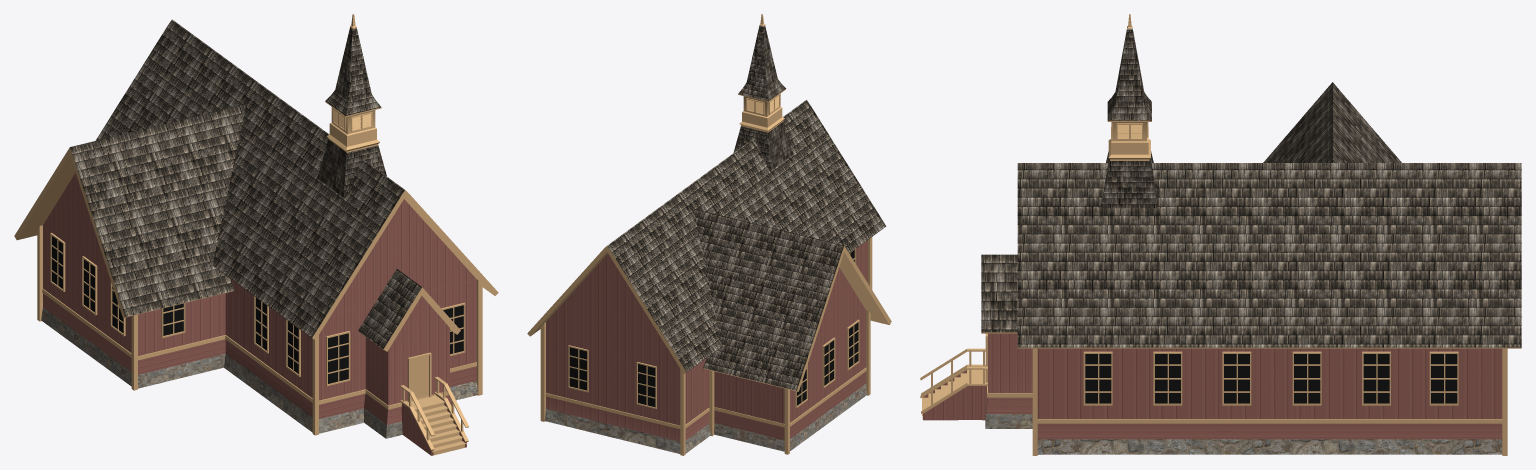
The model's file is ChapelFinal.fbx.
3 views of the same model, side by side, from view 1: azimuth 30°, elevation 25°; view 2: azimuth 150°, elevation 25°; view 3: azimuth 270°, elevation 25° (orthographic). The views are drawn at different scales.
Visible parts, largest first — view 1: TopRoof, SideHouse, Bottom, BottomSide, Windows, FrontDoorHousing, TopTower, SideBeams, FrontDoorTop, Stairs, SideStairs, Door (+1 smaller); view 2: TopRoof, SideHouse, Bottom, BottomSide, TopTower, SideBeams, Windows, TopWindows; view 3: TopRoof, Bottom, Windows, TopTower, SideHouse, FrontDoorHousing, SideBeams, FrontDoorTop, SideStairs, Stairs.
Boxes of the visible parts, x1,y1,x2,y2 form: TopRoof: (95,19,498,339); SideHouse: (14,104,245,318); Bottom: (224,199,478,433); BottomSide: (41,173,225,388); Windows: (50,233,465,386); FrontDoorHousing: (364,296,451,438); TopTower: (317,14,386,197); SideBeams: (37,225,482,435); FrontDoorTop: (358,269,460,351); Stairs: (400,376,468,455); SideStairs: (400,391,468,455); Door: (407,352,431,402); TopRoof: (527,100,886,373); SideHouse: (693,209,891,391); Bottom: (544,240,867,453); BottomSide: (714,267,867,451); TopTower: (733,14,793,171); SideBeams: (540,237,872,455); Windows: (568,249,859,408); TopWindows: (746,94,779,114); TopRoof: (1017,163,1521,348); Bottom: (1037,348,1502,454); Windows: (1083,351,1458,405); TopTower: (1101,14,1158,208); SideHouse: (1263,82,1401,162); FrontDoorHousing: (985,333,1032,428); SideBeams: (987,348,1507,455); FrontDoorTop: (981,254,1017,333); SideStairs: (921,364,987,420); Stairs: (920,348,987,418).
Bounding box in the file's own units: 1790 × 2223 × 3049.
Materials: 6 (3 with a texture image).
